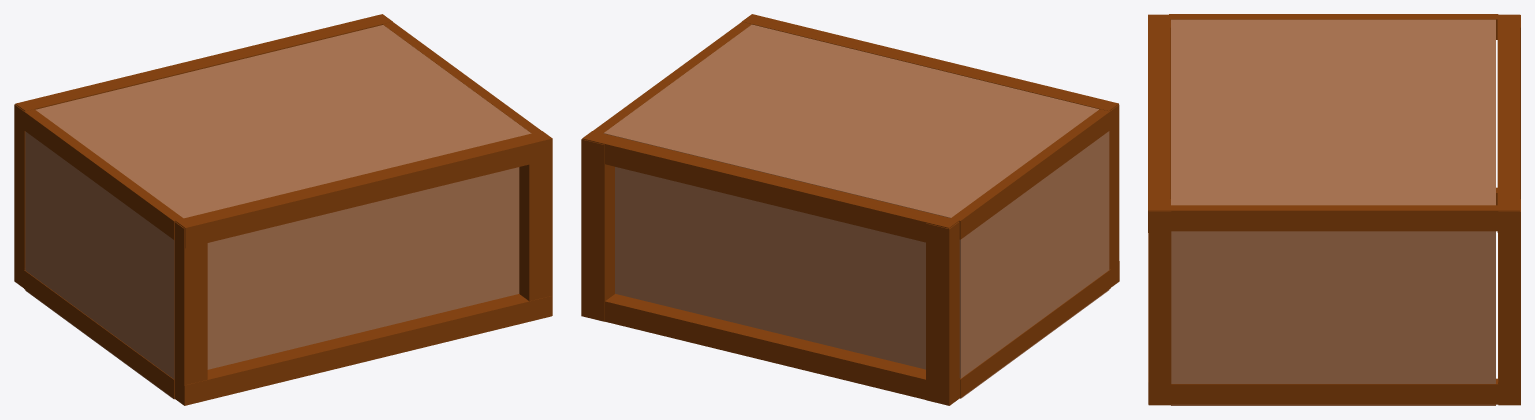
Rendered from _mmo_Box_01.fbx.
3 views of the same model, side by side, from view 1: azimuth 30°, elevation 25°; view 2: azimuth 150°, elevation 25°; view 3: azimuth 270°, elevation 25° (orthographic). The views are drawn at different scales.
Visible parts, largest first — view 1: node_id110, node_id116, node_id122, node_id119, node_id113, node_id140, node_id128, node_id146, node_id131, node_id137; view 2: node_id110, node_id128, node_id134, node_id131, node_id125, node_id140, node_id116, node_id146, node_id119, node_id137; view 3: node_id110, node_id137, node_id143, node_id128, node_id113, node_id116, node_id125, node_id140.
Part boxes in pixels (left/top/right/bottom): node_id110: left=25, top=25, right=531, bottom=399; node_id116: left=175, top=131, right=552, bottom=248; node_id122: left=184, top=294, right=551, bottom=405; node_id119: left=174, top=222, right=207, bottom=405; node_id113: left=519, top=159, right=552, bottom=315; node_id140: left=24, top=109, right=183, bottom=240; node_id128: left=15, top=14, right=392, bottom=111; node_id146: left=24, top=270, right=174, bottom=398; node_id131: left=14, top=104, right=25, bottom=287; node_id137: left=382, top=22, right=541, bottom=133; node_id110: left=603, top=24, right=1109, bottom=398; node_id128: left=582, top=131, right=958, bottom=242; node_id134: left=605, top=294, right=959, bottom=399; node_id131: left=926, top=221, right=959, bottom=405; node_id125: left=581, top=139, right=614, bottom=321; node_id140: left=951, top=109, right=1110, bottom=239; node_id116: left=742, top=14, right=1118, bottom=110; node_id146: left=960, top=269, right=1110, bottom=398; node_id119: left=1109, top=104, right=1119, bottom=287; node_id137: left=593, top=22, right=751, bottom=133; node_id110: left=1171, top=19, right=1495, bottom=405; node_id137: left=1170, top=205, right=1497, bottom=231; node_id143: left=1171, top=378, right=1498, bottom=404; node_id128: left=1497, top=14, right=1520, bottom=232; node_id113: left=1148, top=199, right=1171, bottom=405; node_id116: left=1148, top=14, right=1170, bottom=232; node_id125: left=1498, top=199, right=1520, bottom=405; node_id140: left=1169, top=14, right=1498, bottom=39.
Size of the model in its own units: 0.512 by 0.2371 by 0.4095.
13 materials, 13 textured.
